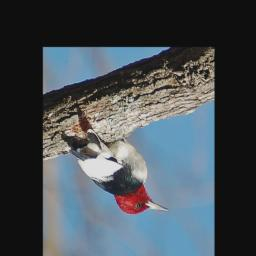Woodpecker: (68, 127, 171, 216)
